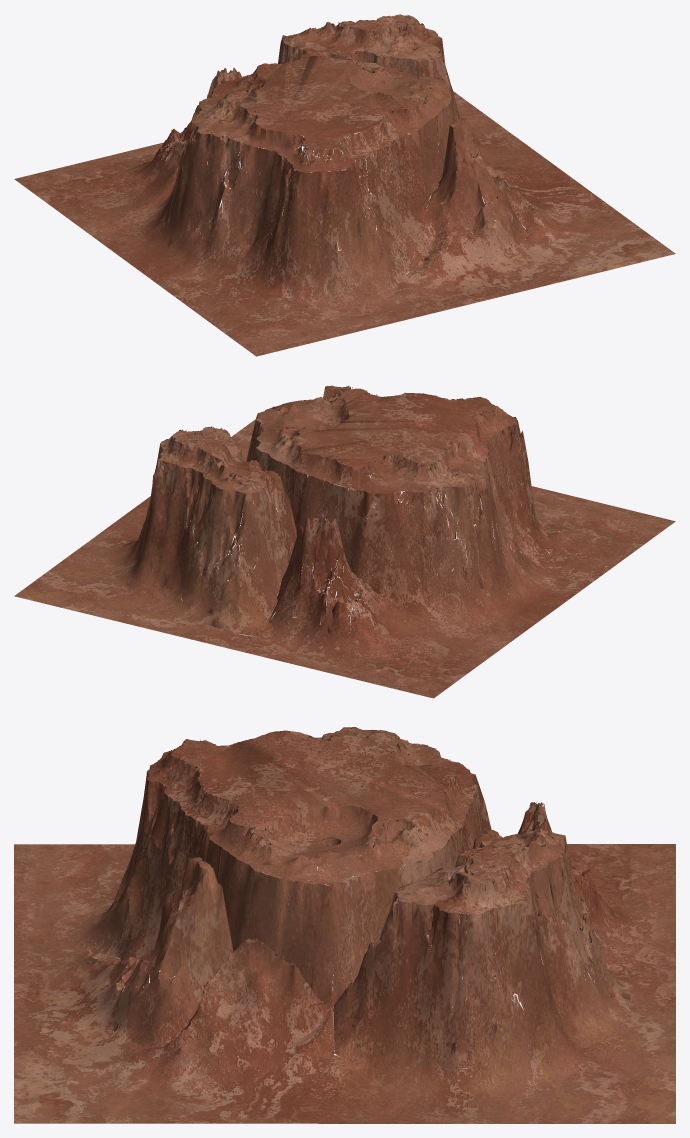
The model's file is ap_modular_wadi_desert_rock1_lo.gltf.
3 renders of one model, top to bottom at view 1: azimuth 30°, elevation 25°; view 2: azimuth 150°, elevation 25°; view 3: azimuth 270°, elevation 25°, orthographic. The views are drawn at different scales.
Parts seen in each view (by area): view 1: ap_modular_wadi_desert_rock1; view 2: ap_modular_wadi_desert_rock1; view 3: ap_modular_wadi_desert_rock1.
Part boxes in pixels (left/top/right/bottom): ap_modular_wadi_desert_rock1: left=14, top=14, right=675, bottom=356; ap_modular_wadi_desert_rock1: left=14, top=385, right=675, bottom=698; ap_modular_wadi_desert_rock1: left=14, top=727, right=675, bottom=1123.
Size of the model in its own units: 24.07 by 7.32 by 24.07.
Materials: 1 (1 with a texture image).
